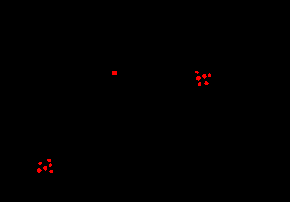Target: (202, 74, 207, 79), (196, 76, 201, 81), (37, 168, 42, 173), (112, 71, 117, 75), (204, 81, 209, 85), (43, 166, 47, 171), (195, 71, 199, 74), (208, 73, 211, 77), (198, 82, 201, 86), (47, 159, 51, 162), (38, 162, 42, 165), (49, 163, 52, 167), (49, 170, 53, 173)
